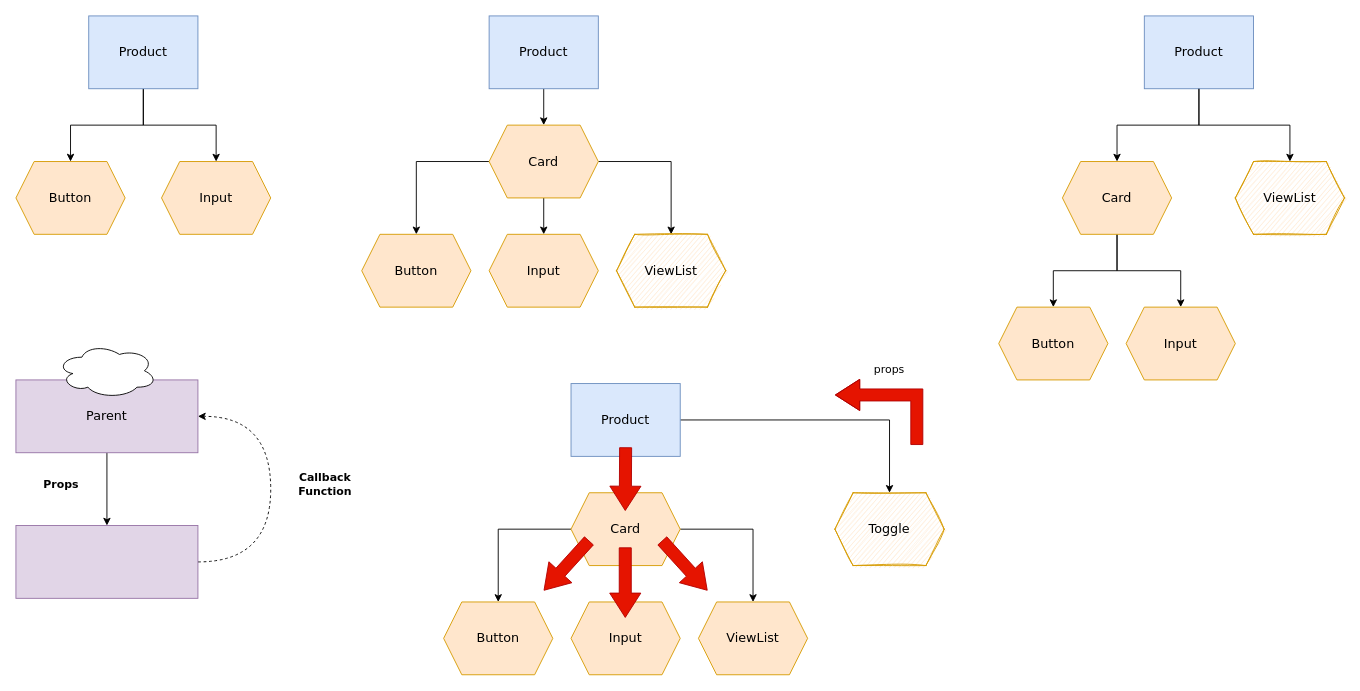
Image size: 1360x691. Some labels were removed from this diagram. Each missing label, with the centre of its shape:
"Child" belongs at [106,561].
"States" belongs at [106,370].
